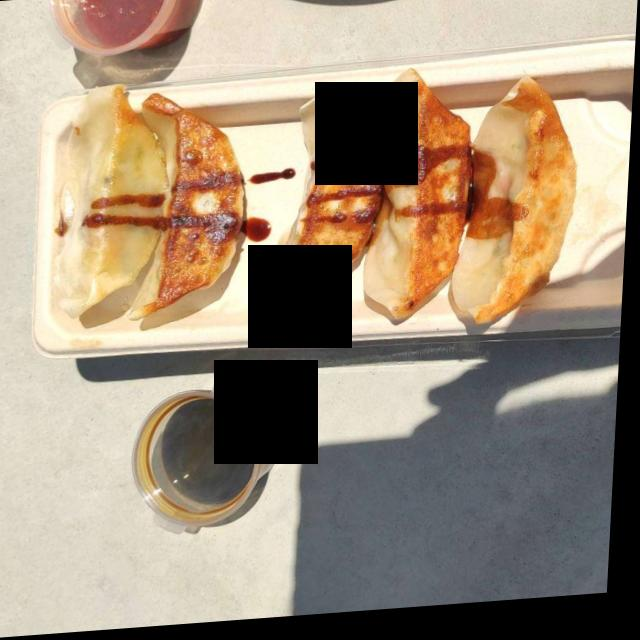sauce-soya: (171, 397, 283, 505)
